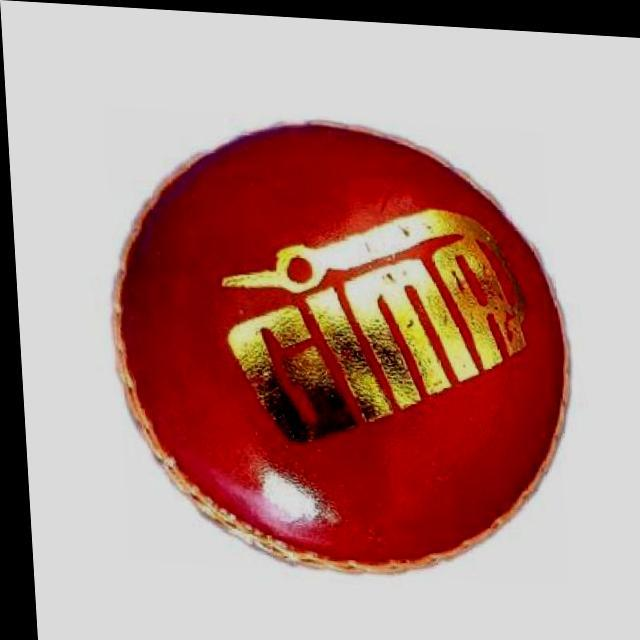-: (102, 105, 563, 580)
